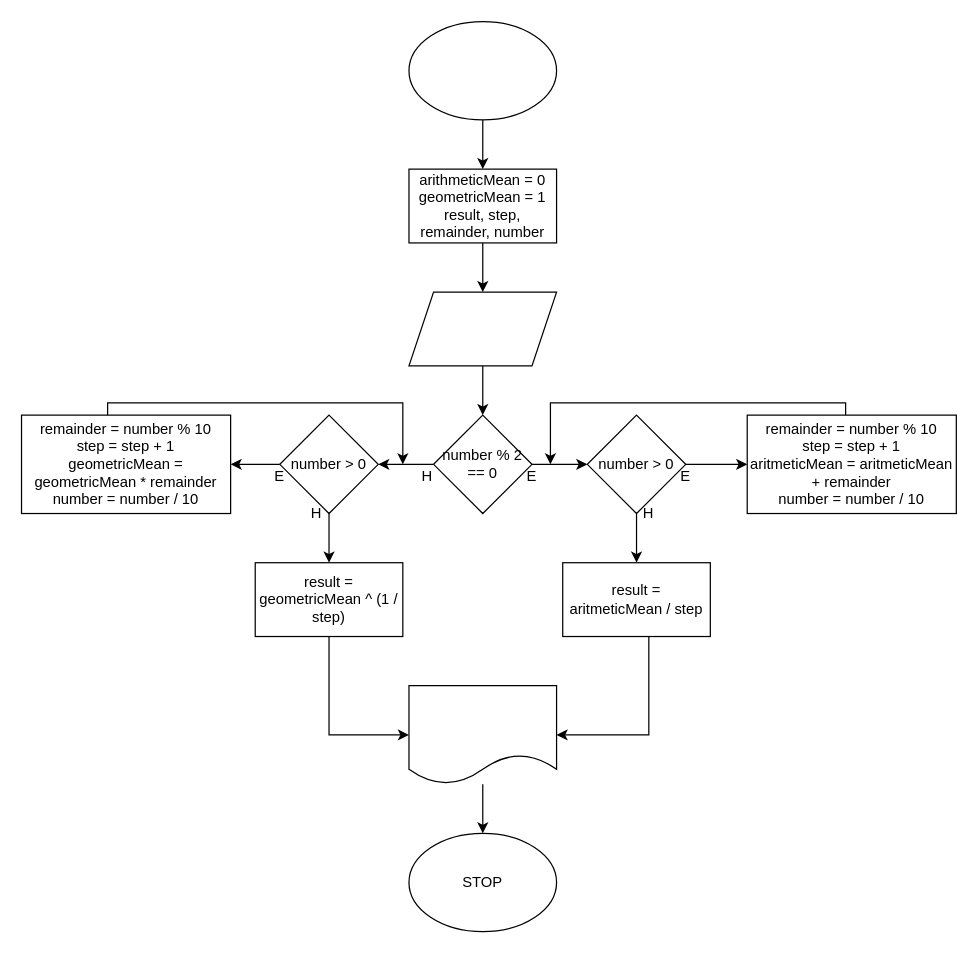
The diagram is 978 pixels wide and 953 high, and some of its shapes have lost their labels. Each missing label, with the centre of its shape:
number: point 482,328
result: point 482,734
START: point 482,70
